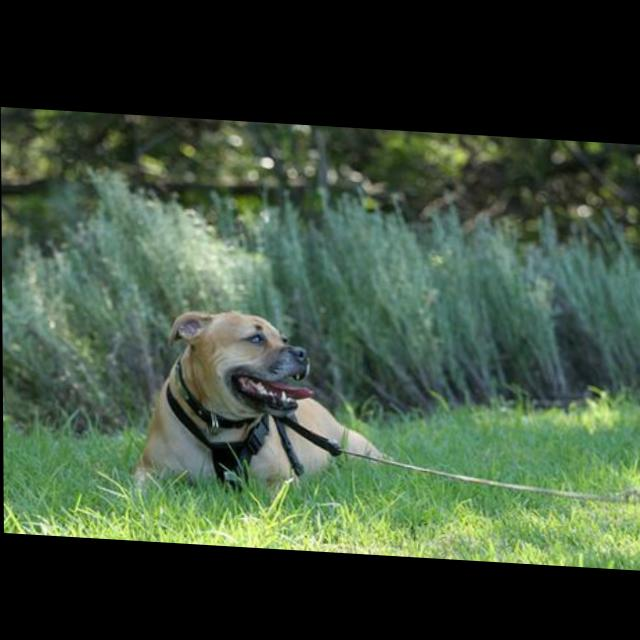staffford: (132, 303, 387, 503)
